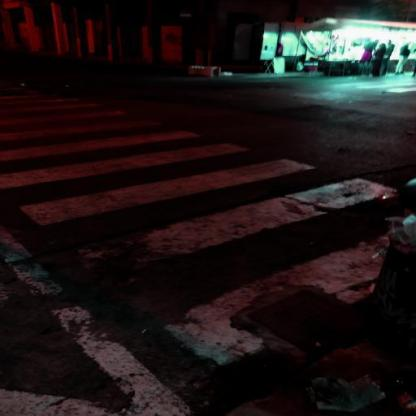crosswalk: (3, 140, 326, 230)
